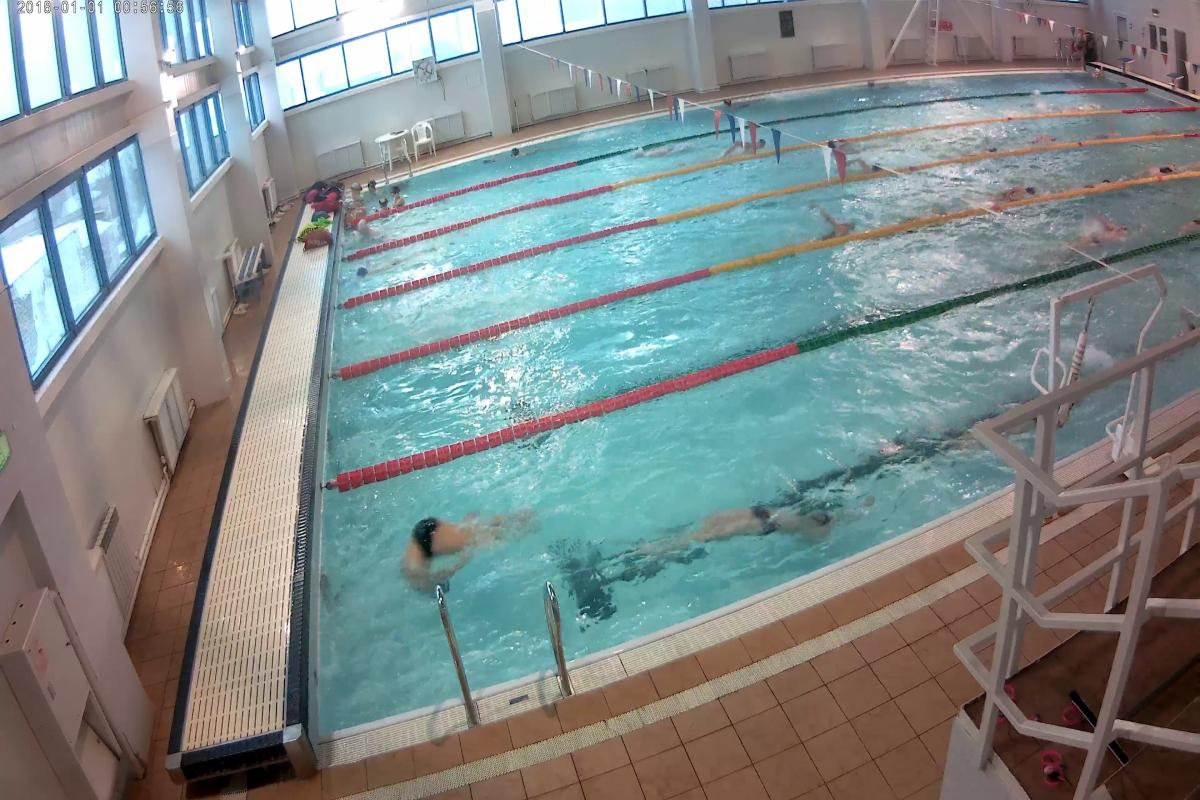swimmer: (398, 495, 544, 598), (656, 490, 862, 554), (354, 248, 431, 279), (1076, 215, 1142, 246), (995, 178, 1042, 206), (815, 211, 861, 239), (726, 137, 768, 154), (847, 156, 882, 173)
